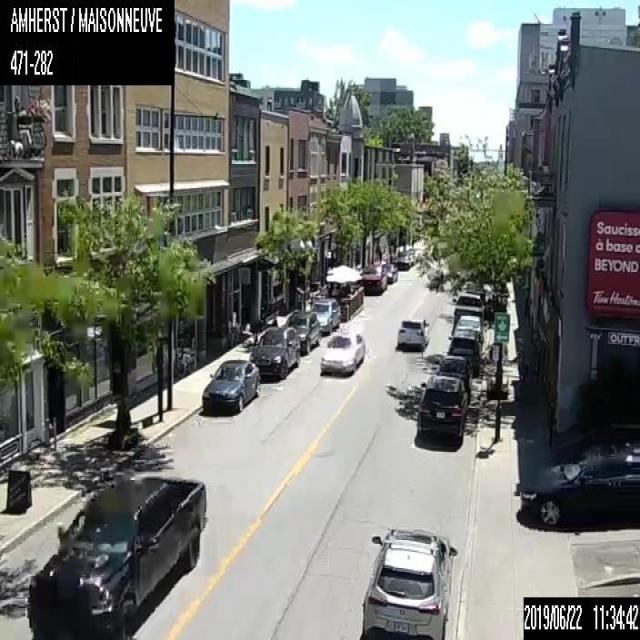vehicle: (25, 473, 206, 639), (359, 524, 458, 639), (519, 439, 639, 532), (418, 374, 470, 443), (202, 359, 259, 412), (248, 324, 300, 378), (319, 333, 364, 376), (434, 354, 473, 403), (447, 329, 484, 373), (283, 309, 319, 353), (395, 315, 430, 349), (310, 297, 340, 335), (452, 294, 484, 326), (454, 314, 483, 344), (361, 262, 385, 292), (379, 262, 397, 284)
